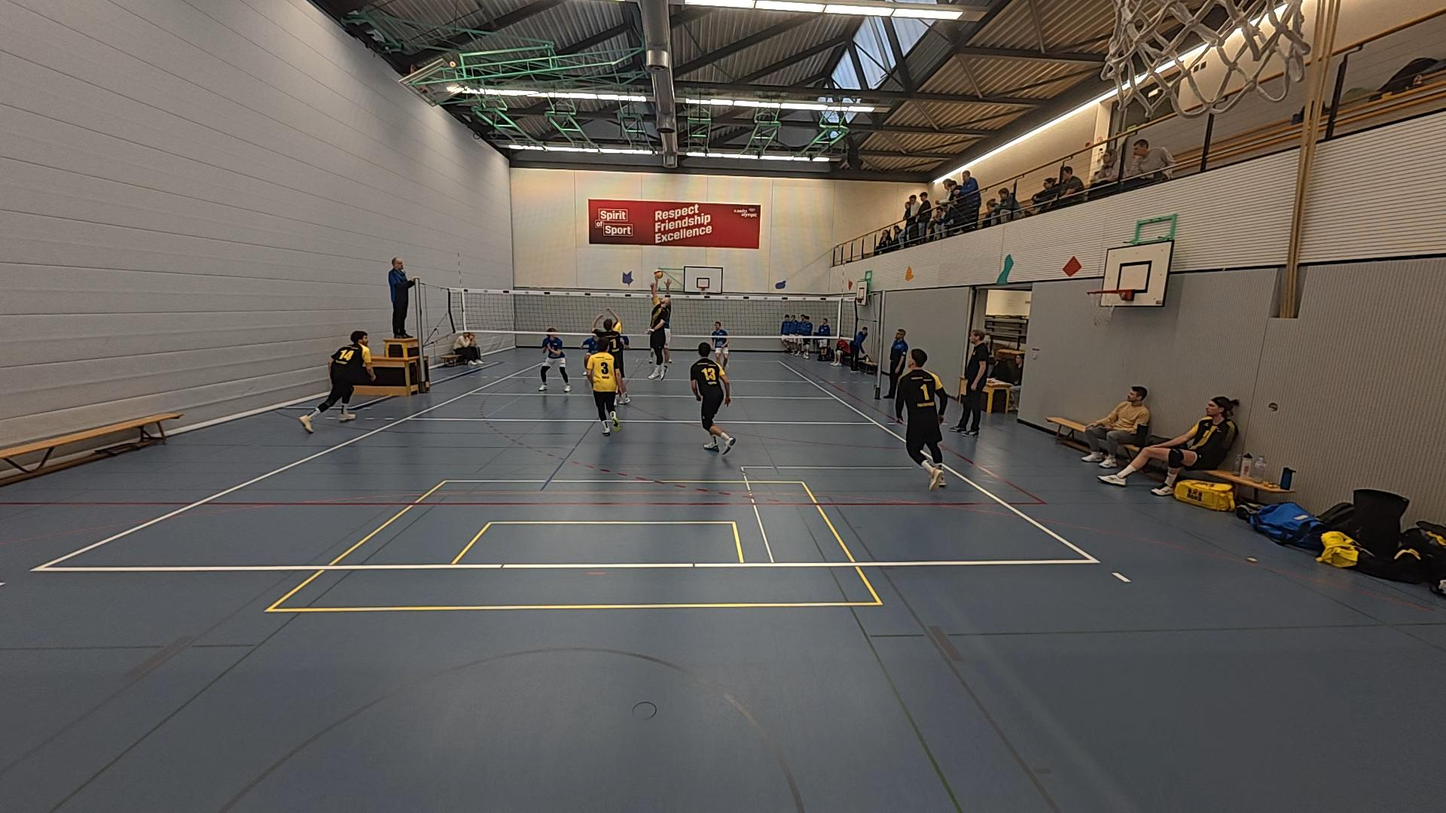alzata: (644, 272, 674, 381)
